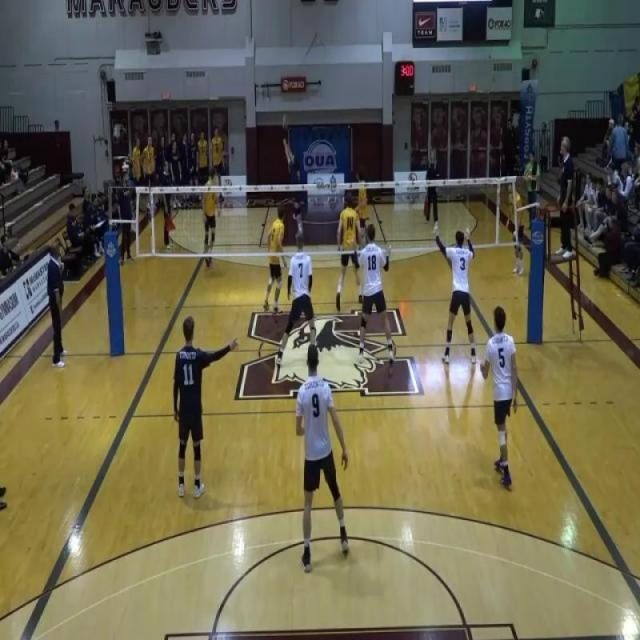volleyball: (282, 112, 288, 131)
